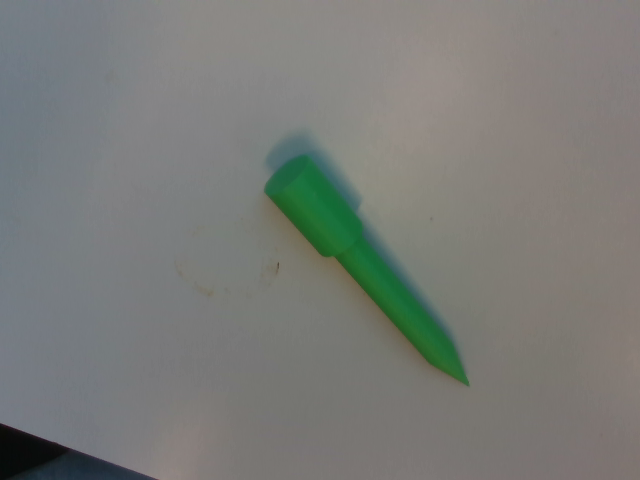Probe: (259, 150, 477, 395)
